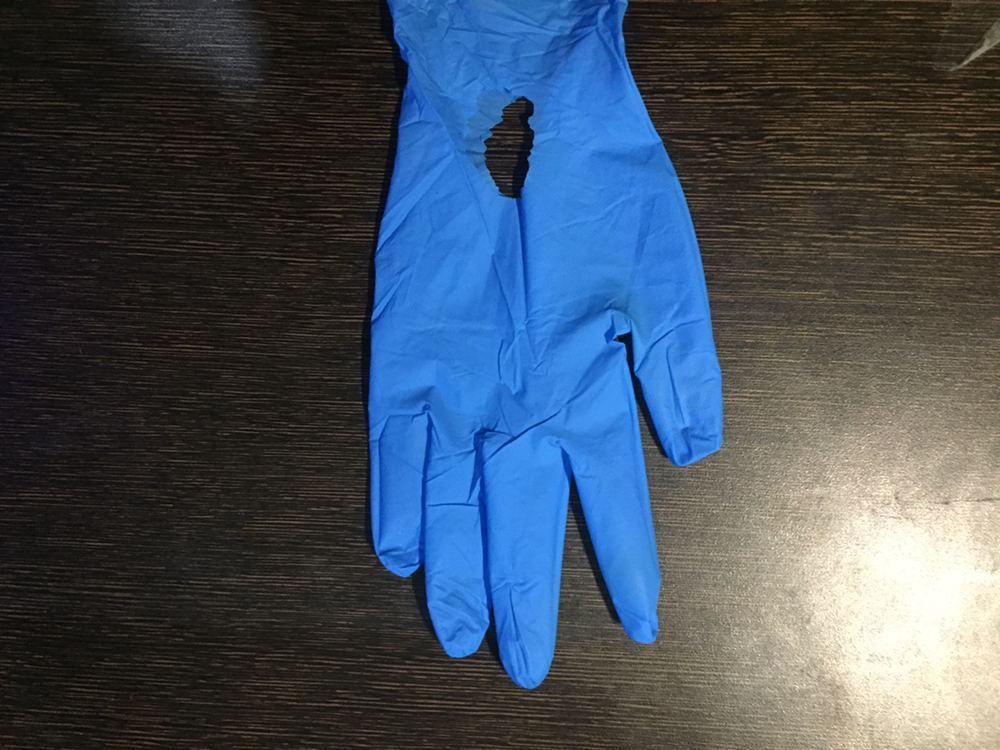defected: (237, 40, 816, 661)
